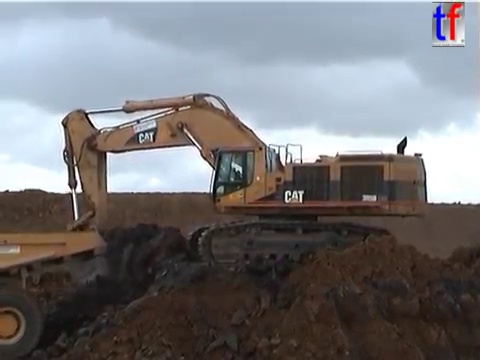excavator: (57, 90, 430, 292)
truck: (1, 223, 110, 360)
